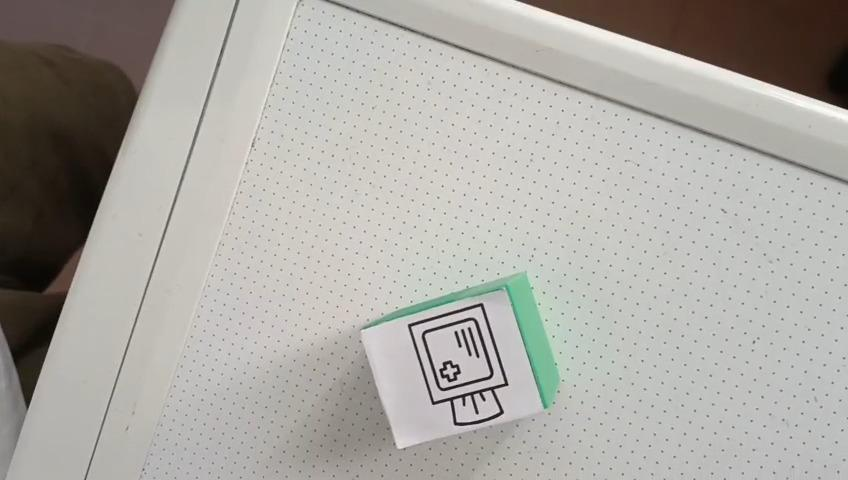Gauze: (358, 270, 560, 450)
